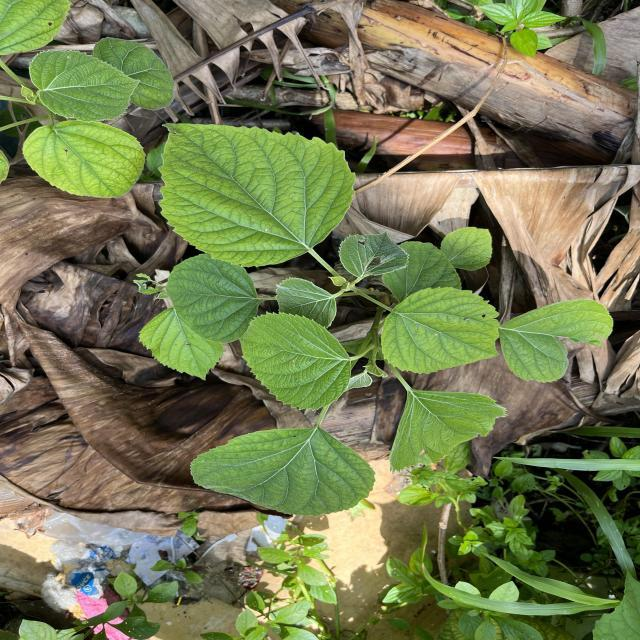Clerodendrum infortunatum: (158, 120, 358, 269), (189, 424, 378, 518), (238, 311, 354, 412), (378, 285, 502, 376), (386, 388, 509, 475), (499, 296, 616, 384), (21, 120, 147, 200), (165, 252, 260, 346), (27, 48, 142, 123), (138, 308, 225, 382), (441, 226, 494, 272)
